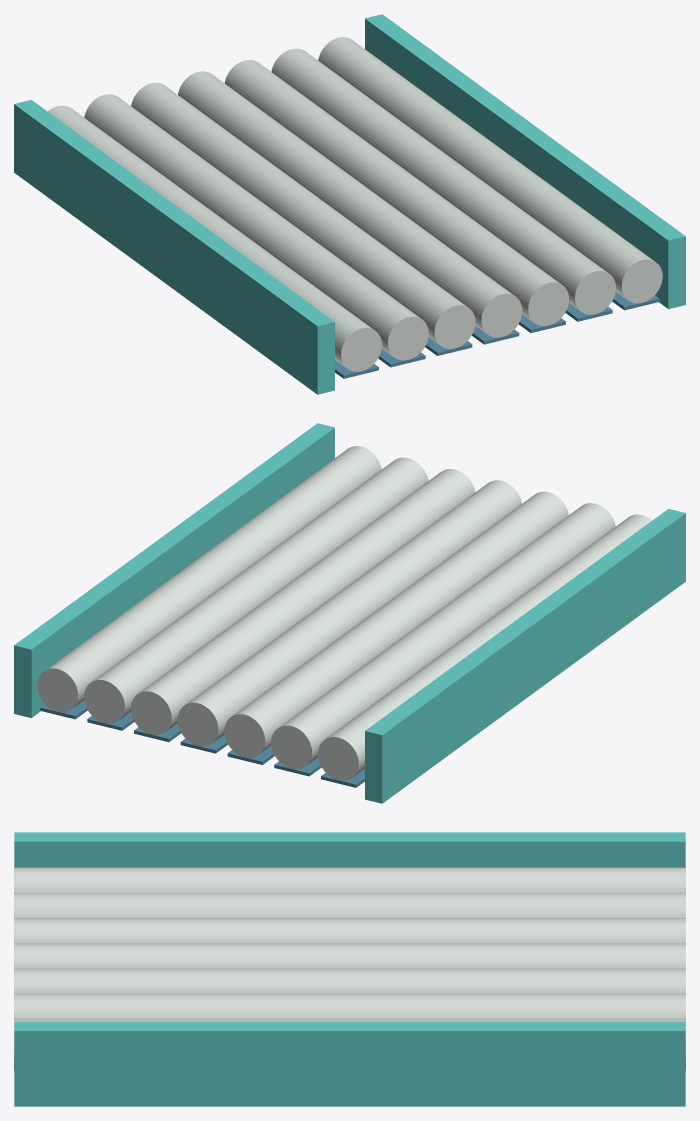
Rendered from tube_bundle.glb.
The picture shows the model from 3 angles, top to bottom: view 1: azimuth 30°, elevation 25°; view 2: azimuth 150°, elevation 25°; view 3: azimuth 270°, elevation 25°; orthographic projection. The views are drawn at different scales.
Parts seen in each view (by area): view 1: tube_bundle; view 2: tube_bundle; view 3: tube_bundle.
Part boxes in pixels (<box>): tube_bundle: <box>14,14,685,394</box>; tube_bundle: <box>14,423,685,803</box>; tube_bundle: <box>14,832,685,1106</box>.
Bounding box in the file's own units: 0.7 × 0.1244 × 1.
